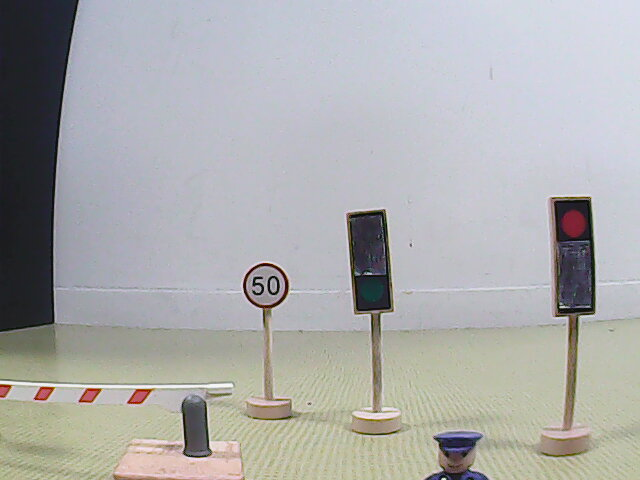barrier: (1, 379, 246, 478)
green_traffic_sign: (347, 210, 391, 313)
person: (422, 427, 491, 480)
red_traffic_sign: (550, 196, 595, 316)
sign_50: (242, 263, 290, 309)
